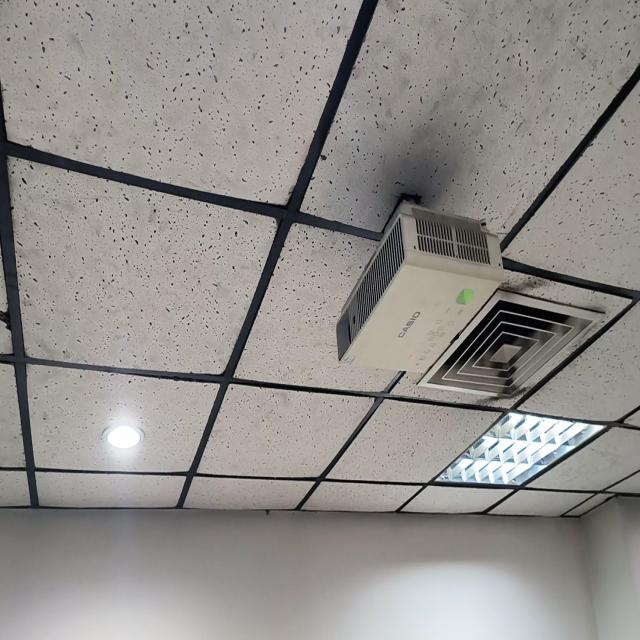Light: (438, 412, 603, 485), (106, 425, 141, 449)
Projector: (337, 201, 503, 375)
